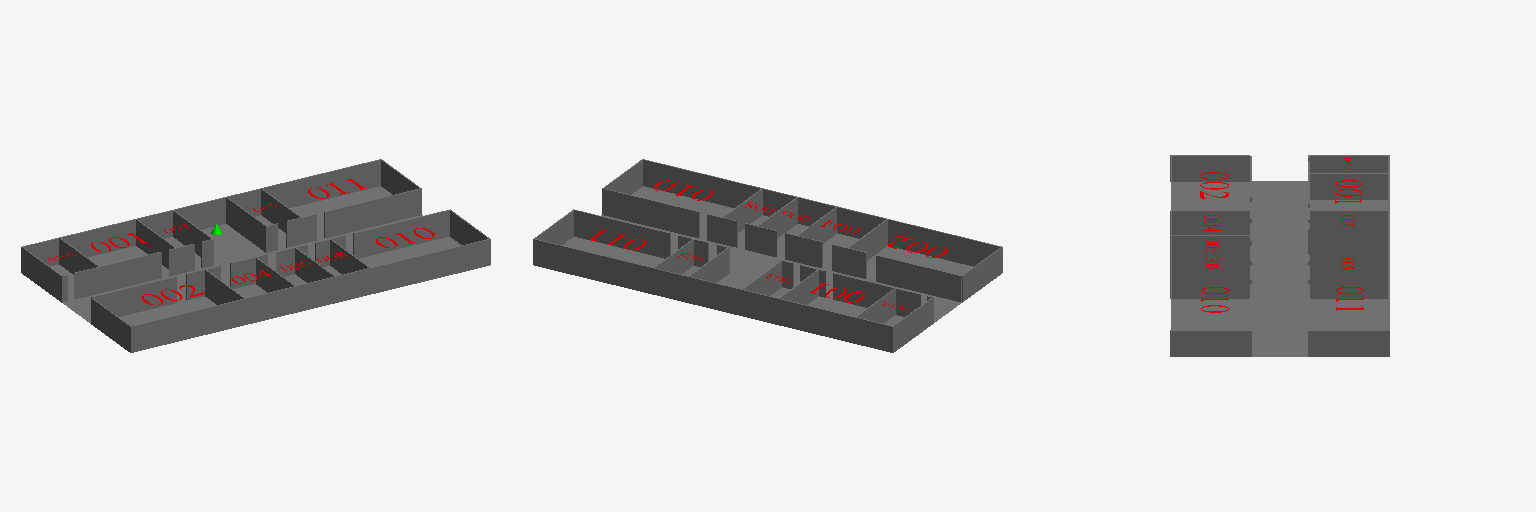
File: wood0.obj
3 renders of one model, left to right at view 1: azimuth 30°, elevation 25°; view 2: azimuth 150°, elevation 25°; view 3: azimuth 270°, elevation 25°, orthographic.
Parts seen in each view (by area): view 1: pCube13, pPlane1, pCube12, pCube19, pCube18, pCube26, pCube14, pCube6, pCube7, pCube3, pCube20, pCube24 (+13 smaller); view 2: pCube12, pPlane1, pCube13, pCube18, pCube19, pCube14, pCube26, pCube7, pCube6, pCube15, pCube28, pCube16 (+12 smaller); view 3: pPlane1, pCube11, pCube2, pCube10, pCube7, pCube4, pCube1, pCube5, pCube8, pCube25, pCube6, pCube24 (+2 smaller).
Part boxes in pixels (bbox=[...]): pCube13: bbox=[132, 239, 489, 352]; pPlane1: bbox=[51, 186, 460, 325]; pCube12: bbox=[21, 159, 381, 272]; pCube19: bbox=[324, 188, 420, 237]; pCube18: bbox=[353, 209, 450, 258]; pCube26: bbox=[74, 252, 161, 299]; pCube14: bbox=[91, 276, 176, 316]; pCube6: bbox=[22, 247, 62, 302]; pCube7: bbox=[91, 298, 131, 352]; pCube3: bbox=[226, 197, 266, 252]; pCube20: bbox=[286, 214, 316, 247]; pCube24: bbox=[136, 219, 176, 268]; pCube12: bbox=[533, 239, 893, 352]; pPlane1: bbox=[562, 186, 972, 325]; pCube13: bbox=[642, 159, 1001, 266]; pCube18: bbox=[602, 188, 699, 237]; pCube19: bbox=[573, 209, 670, 258]; pCube14: bbox=[876, 255, 961, 301]; pCube26: bbox=[833, 273, 920, 316]; pCube7: bbox=[962, 247, 1002, 301]; pCube6: bbox=[894, 297, 933, 351]; pCube15: bbox=[785, 233, 822, 267]; pCube28: bbox=[832, 244, 866, 278]; pCube16: bbox=[745, 223, 776, 256]; pPlane1: bbox=[1172, 181, 1387, 356]; pCube11: bbox=[1170, 330, 1249, 356]; pCube2: bbox=[1308, 330, 1387, 356]; pCube10: bbox=[1170, 272, 1249, 298]; pCube7: bbox=[1170, 155, 1249, 181]; pCube4: bbox=[1308, 229, 1387, 254]; pCube1: bbox=[1310, 272, 1387, 298]; pCube5: bbox=[1310, 173, 1387, 199]; pCube8: bbox=[1170, 211, 1249, 234]; pCube25: bbox=[1170, 235, 1249, 254]; pCube6: bbox=[1308, 155, 1387, 172]; pCube24: bbox=[1310, 211, 1387, 228].
Bounding box in the file's own units: 2864 × 201 × 1508.